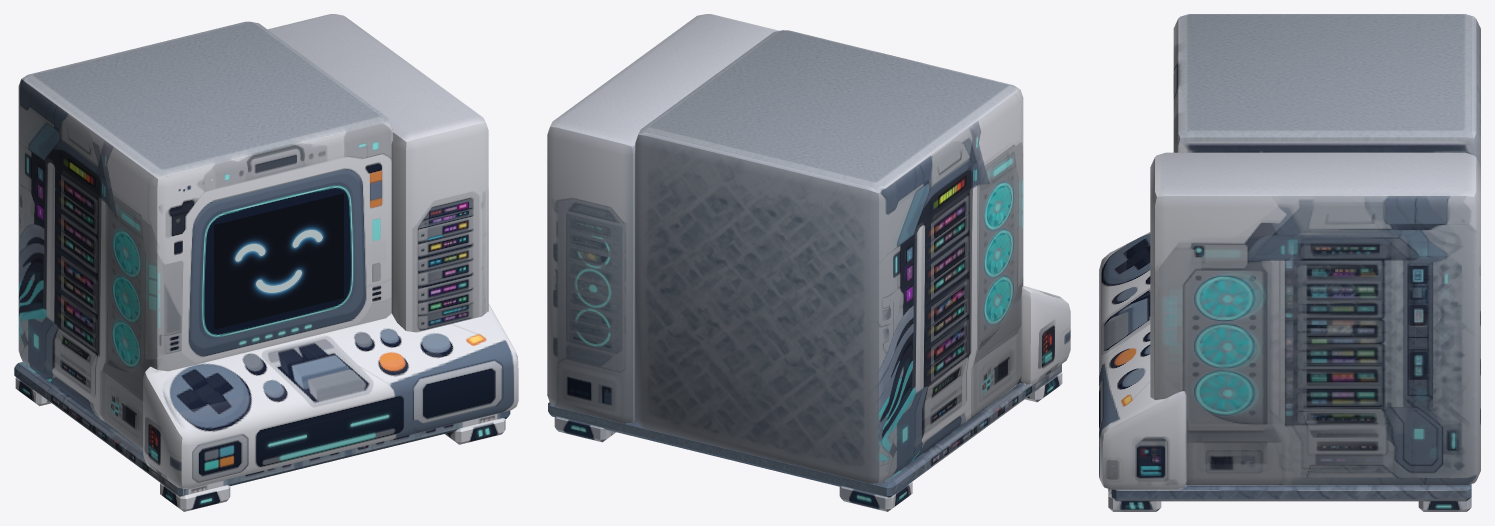
The model's file is default_superComputer_3.fbx.
3 views of the same model, side by side, from view 1: azimuth 30°, elevation 25°; view 2: azimuth 150°, elevation 25°; view 3: azimuth 270°, elevation 25° (orthographic). The views are drawn at different scales.
Visible parts, largest first — view 1: default_superComputer_3, default_superComputer_3_Face; view 2: default_superComputer_3; view 3: default_superComputer_3.
Boxes of the visible parts, left/top/right/bottom form: default_superComputer_3: left=14, top=14, right=518, bottom=511; default_superComputer_3_Face: left=214, top=193, right=343, bottom=329; default_superComputer_3: left=547, top=14, right=1070, bottom=511; default_superComputer_3: left=1099, top=14, right=1480, bottom=511.
Bounding box in the file's own units: 2.74 × 2.4 × 2.46.
Materials: 2 (2 with a texture image).
